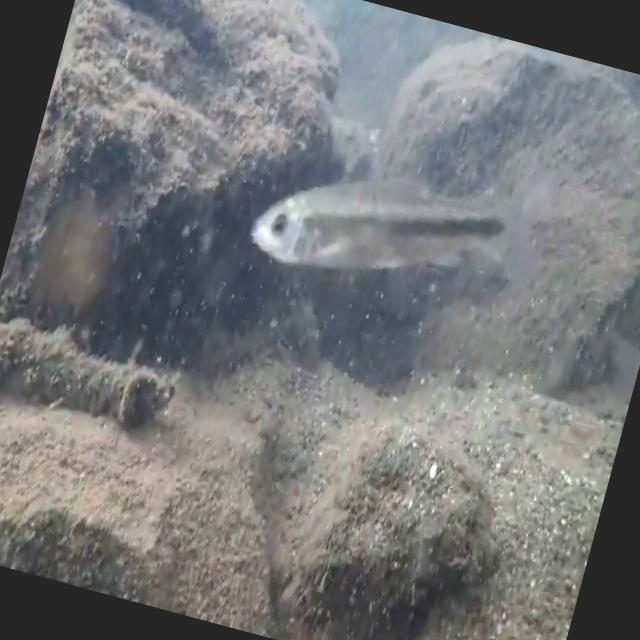Cakil Baligi: (242, 137, 514, 321)
